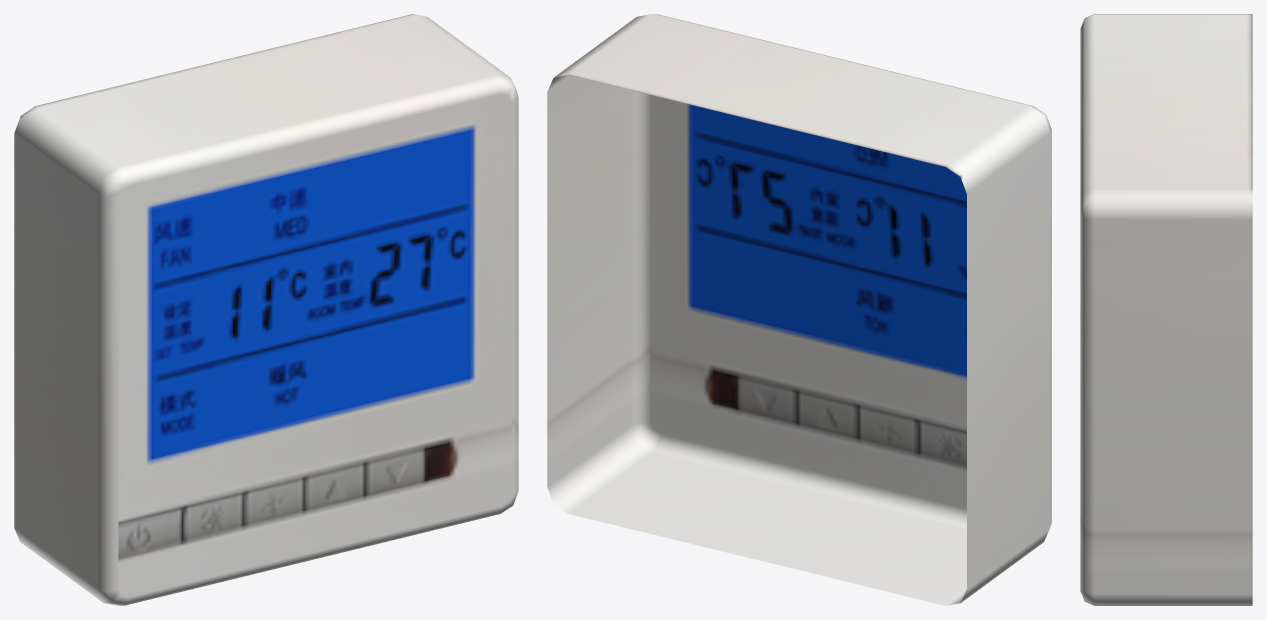
Rendered from KongTiaoKaiGuan.fbx.
3 renders of one model, left to right at view 1: azimuth 30°, elevation 25°; view 2: azimuth 150°, elevation 25°; view 3: azimuth 270°, elevation 25°, orthographic. The views are drawn at different scales.
Visible parts, largest first — view 1: KongTianKaiGuan; view 2: KongTianKaiGuan; view 3: KongTianKaiGuan.
Boxes of the visible parts, box(x1,y1,x2,y2) form: KongTianKaiGuan: box(14, 14, 518, 605); KongTianKaiGuan: box(547, 14, 1051, 605); KongTianKaiGuan: box(1080, 14, 1252, 605).
Bounding box in the file's own units: 8 × 8 × 3.
1 material, 1 textured.
